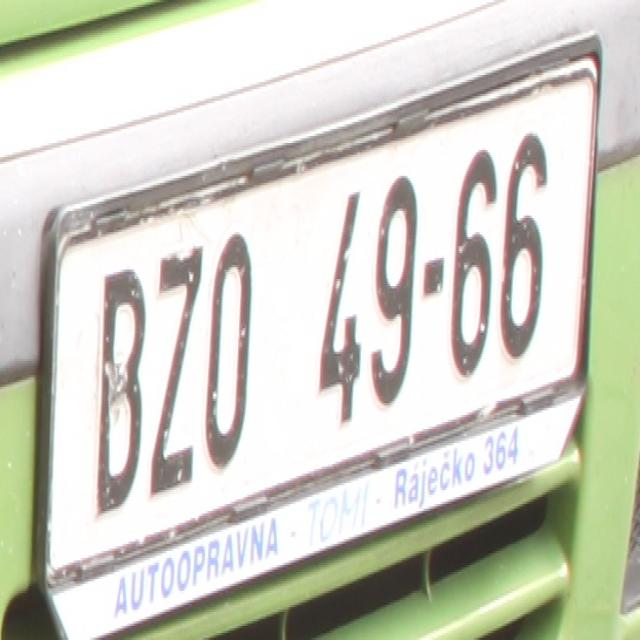0: (205, 234, 248, 473)
4: (317, 192, 366, 432)
6: (447, 150, 498, 385), (502, 129, 544, 363)
9: (372, 171, 416, 410)
B: (95, 272, 147, 520)
Z: (152, 244, 200, 492)
